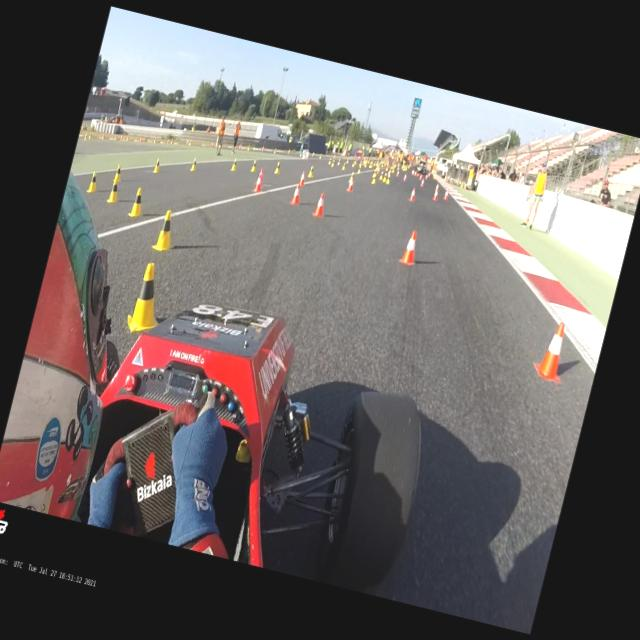orange_cone: (530, 318, 573, 382), (397, 228, 421, 266), (311, 191, 328, 218), (289, 182, 304, 206), (252, 173, 265, 193), (254, 166, 266, 184), (298, 170, 308, 186), (408, 186, 417, 202), (346, 176, 354, 192), (431, 188, 439, 200), (442, 188, 449, 200), (434, 183, 439, 192), (420, 178, 425, 186), (402, 172, 407, 180), (395, 169, 400, 177), (287, 148, 290, 154), (261, 146, 264, 152)
yellow_cone: (123, 260, 173, 339), (150, 207, 182, 253), (126, 186, 148, 219), (106, 177, 122, 204), (86, 169, 101, 194), (112, 162, 124, 182), (189, 156, 199, 172), (152, 158, 162, 174), (272, 160, 282, 174), (230, 157, 238, 171), (307, 165, 315, 178), (250, 159, 258, 172), (347, 170, 354, 183), (370, 173, 377, 184), (381, 171, 387, 182), (384, 173, 390, 184), (378, 170, 384, 180), (356, 166, 362, 173), (330, 159, 335, 167), (336, 158, 341, 165), (342, 162, 346, 170), (272, 147, 276, 154), (327, 158, 331, 165), (298, 151, 302, 157), (247, 144, 250, 150)
